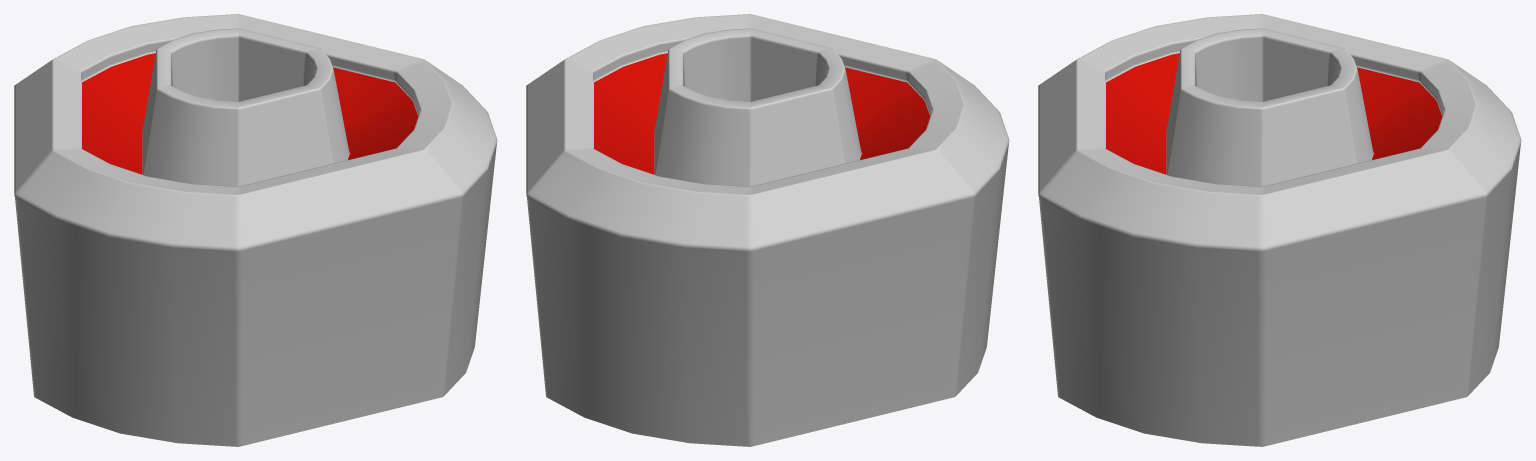
File: NewCell.fbx
3 views of the same model, side by side, from view 1: azimuth 30°, elevation 25°; view 2: azimuth 150°, elevation 25°; view 3: azimuth 270°, elevation 25° (orthographic).
Parts seen in each view (by area): view 1: Cylinder; view 2: Cylinder; view 3: Cylinder.
Boxes of the visible parts, x1,y1,x2,y2 form: Cylinder: [14, 14, 497, 446]; Cylinder: [526, 14, 1009, 446]; Cylinder: [1038, 14, 1521, 446].
Size of the model in its own units: 100 by 59.41 by 93.3.
